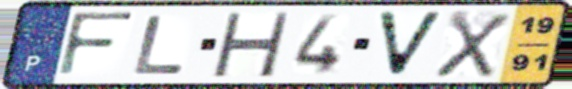4: (290, 13, 345, 76)
F: (54, 10, 138, 79)
H: (208, 11, 293, 79)
L: (131, 13, 190, 76)
V: (374, 9, 448, 79)
X: (431, 9, 515, 79)
